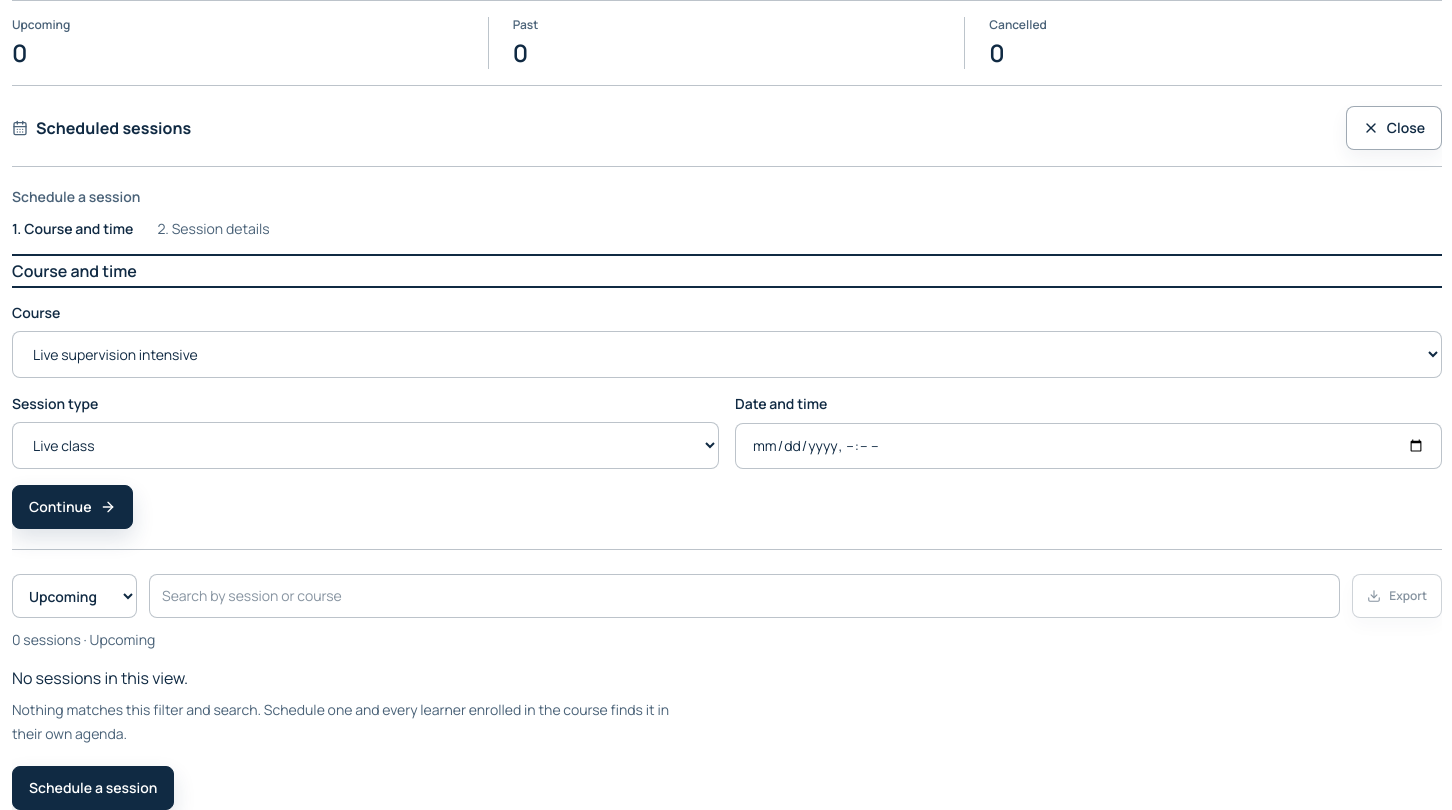
Scenario: TeacherEventStudio › produto gratis: o proximo passo e publicar, sem falar de preco
Type "2027-03-14T15:30" into the field labelled "Date and time" at (1088, 446), box [735,422,1442,469]
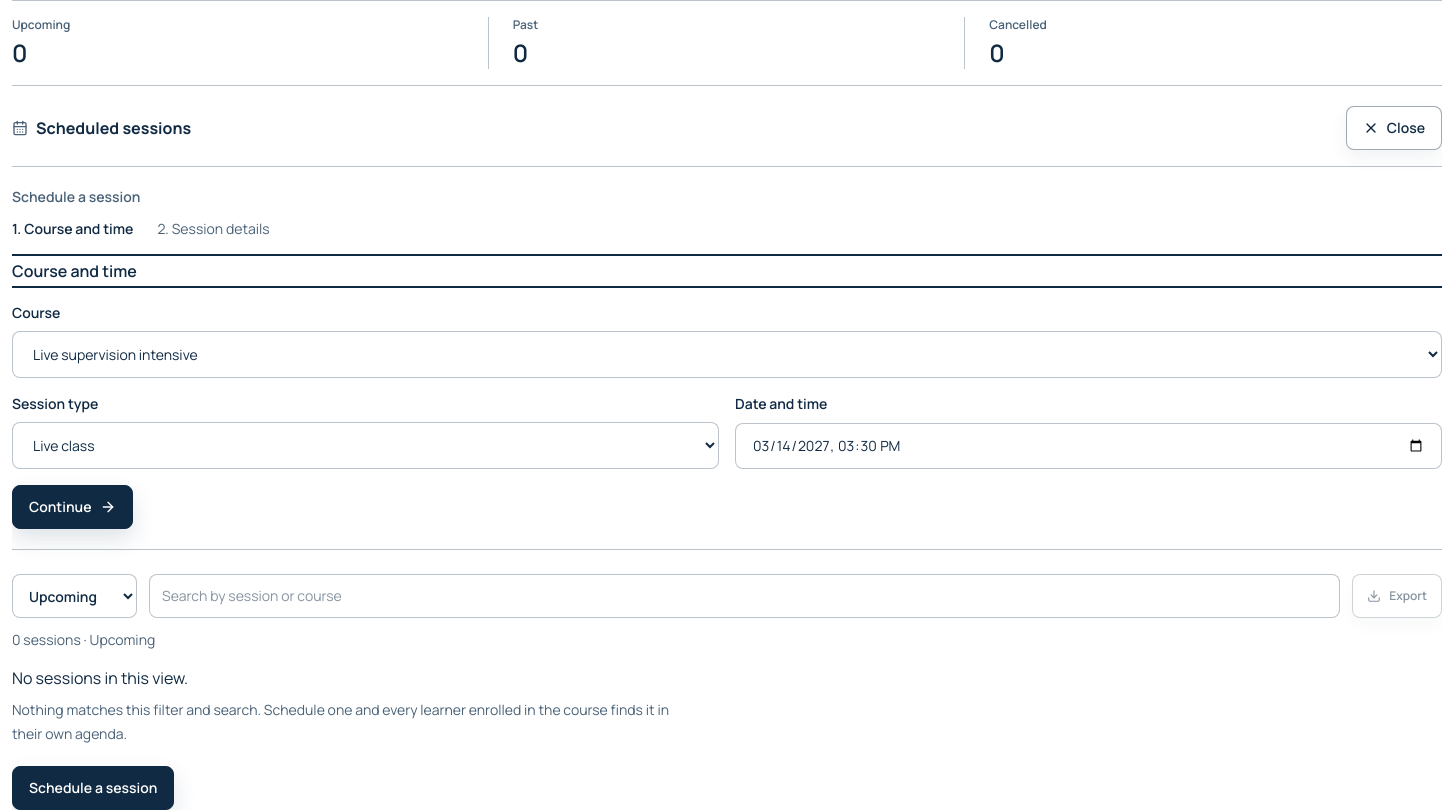
Click the button "Continue" at (72, 507), box [12,485,133,529]
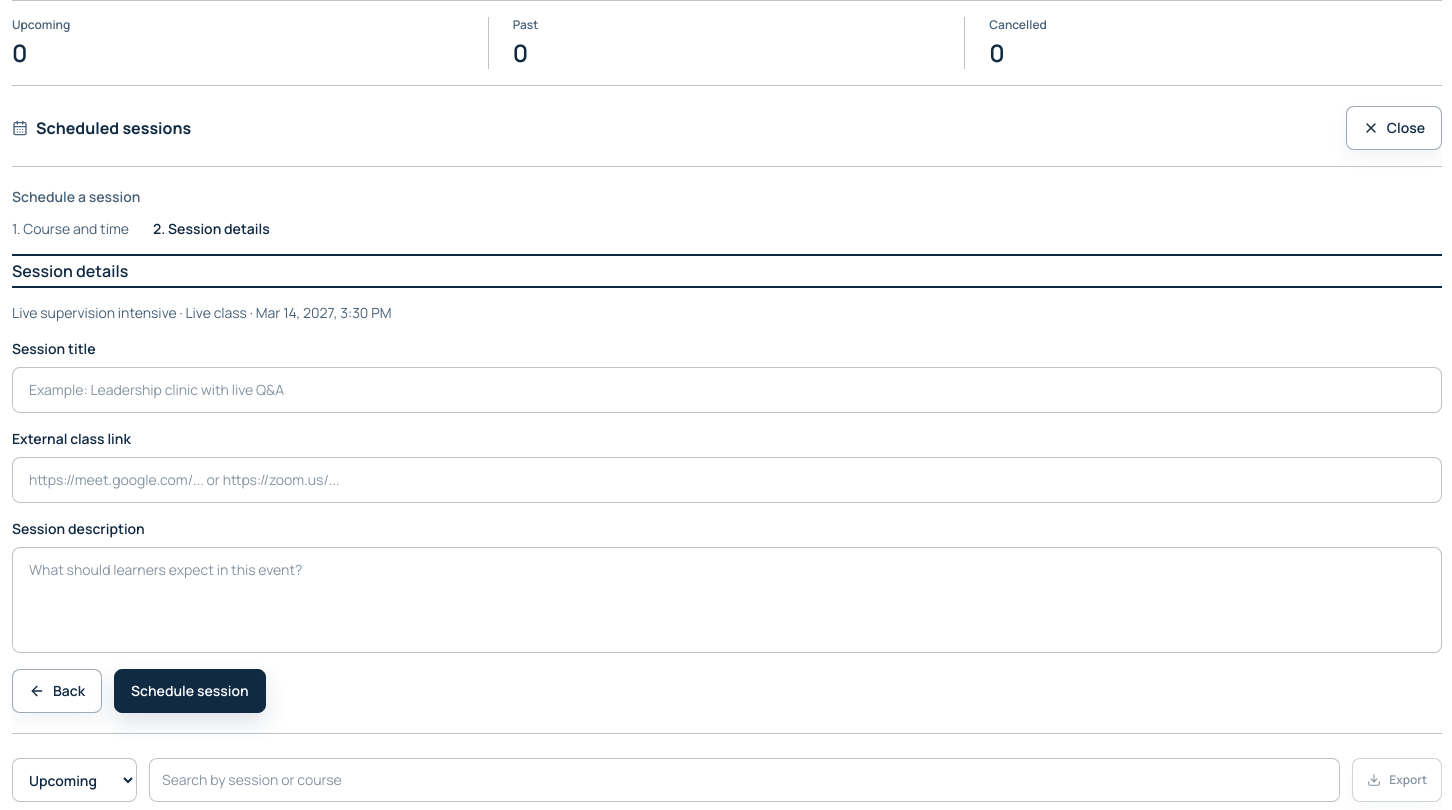
Type "Live workshop" into the field labelled "Session title" at (727, 390), box [12,367,1442,413]
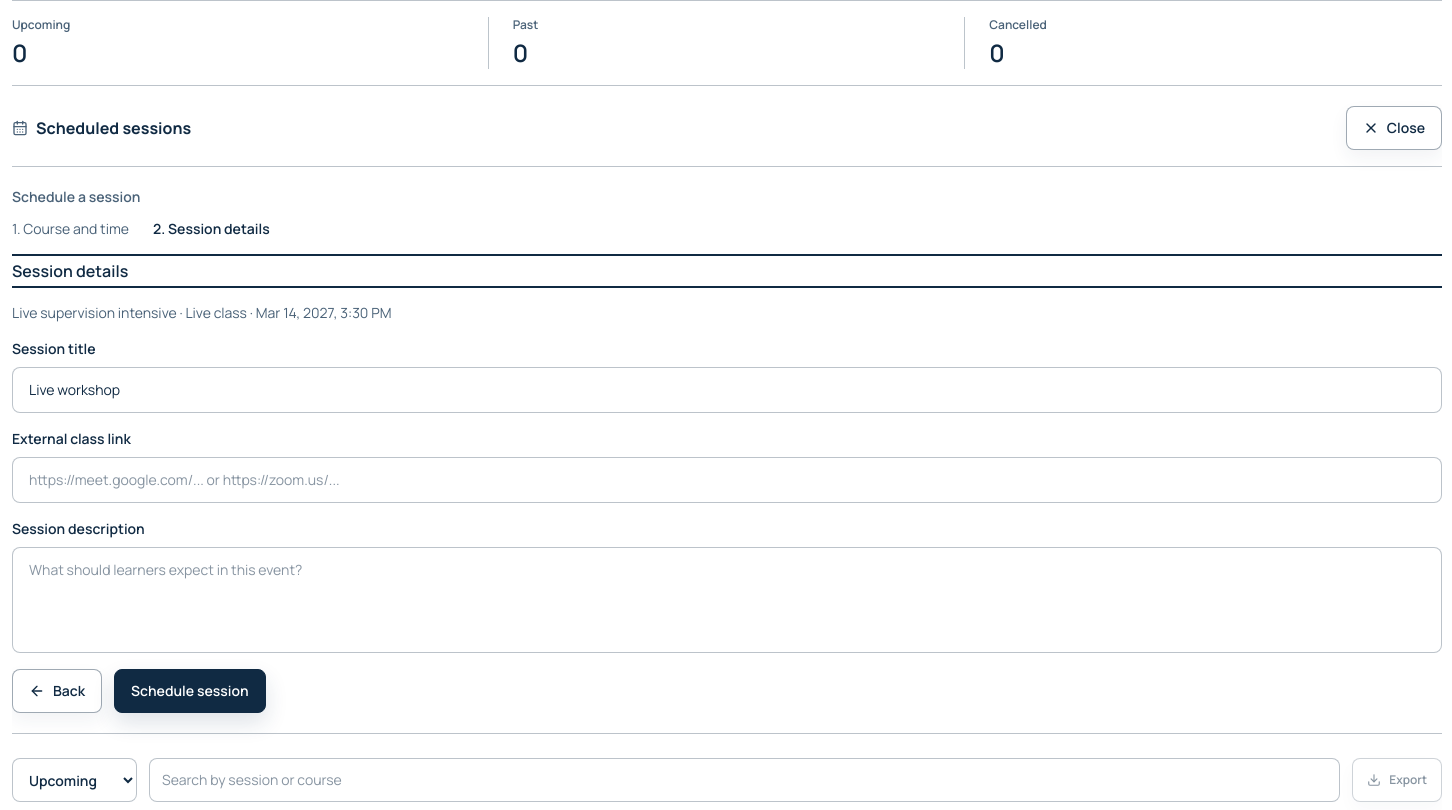
Type "https://meet.example.com/live" into the field labelled "External class link" at (727, 480), box [12,457,1442,503]
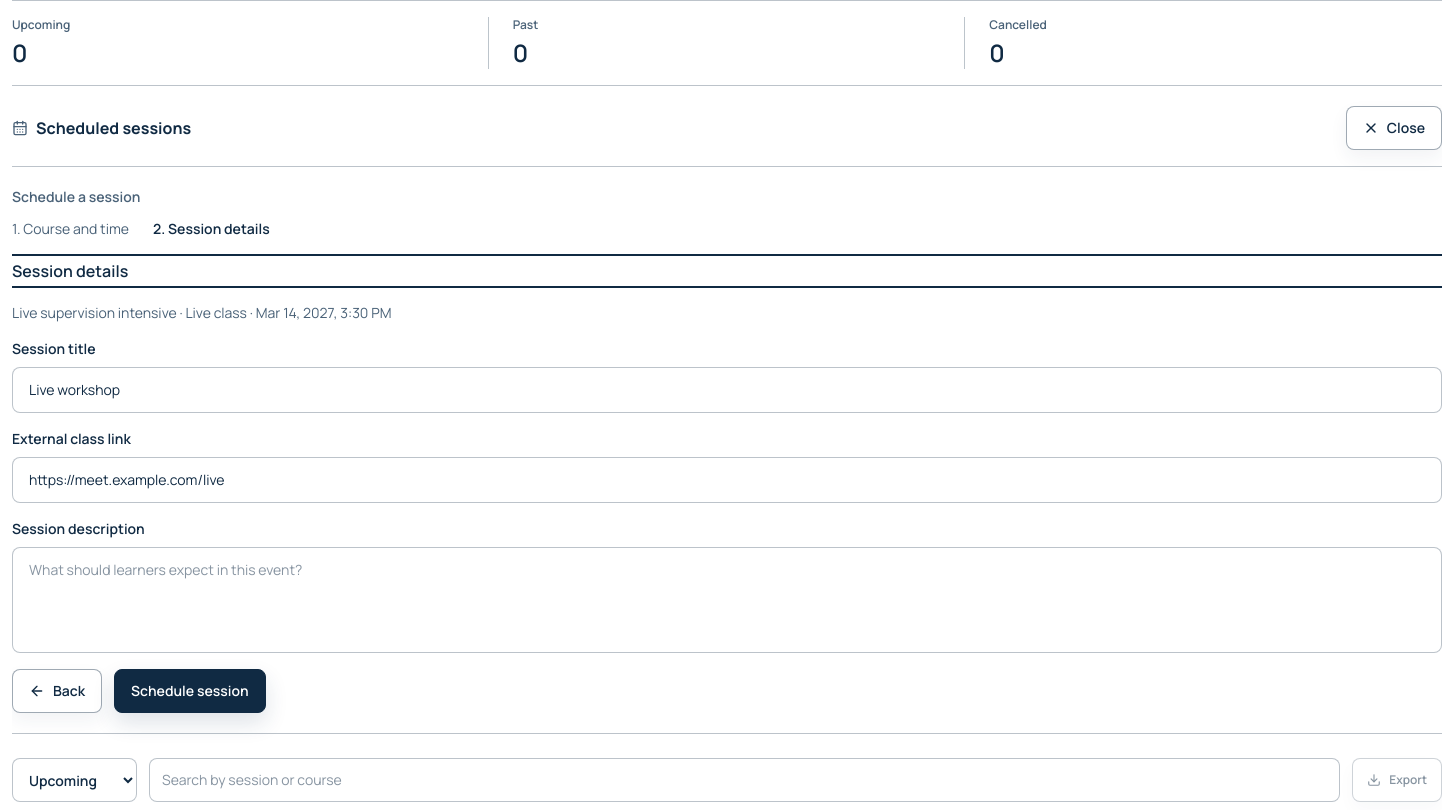
Type "Practical exercises together." into the text box labelled "Session description" at (727, 600), box [12,547,1442,653]
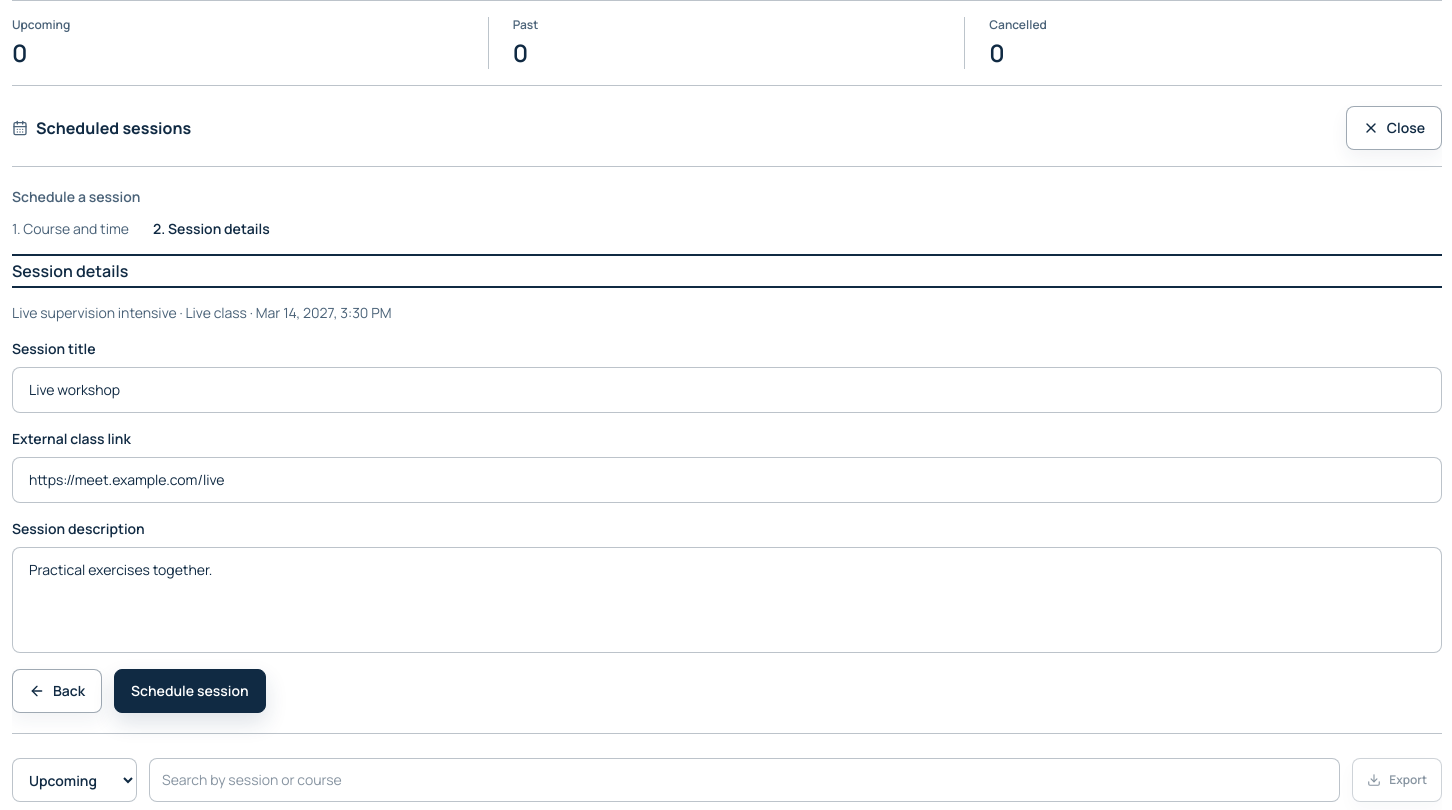
Click the button "Schedule session" at (190, 691), box [114,669,266,713]
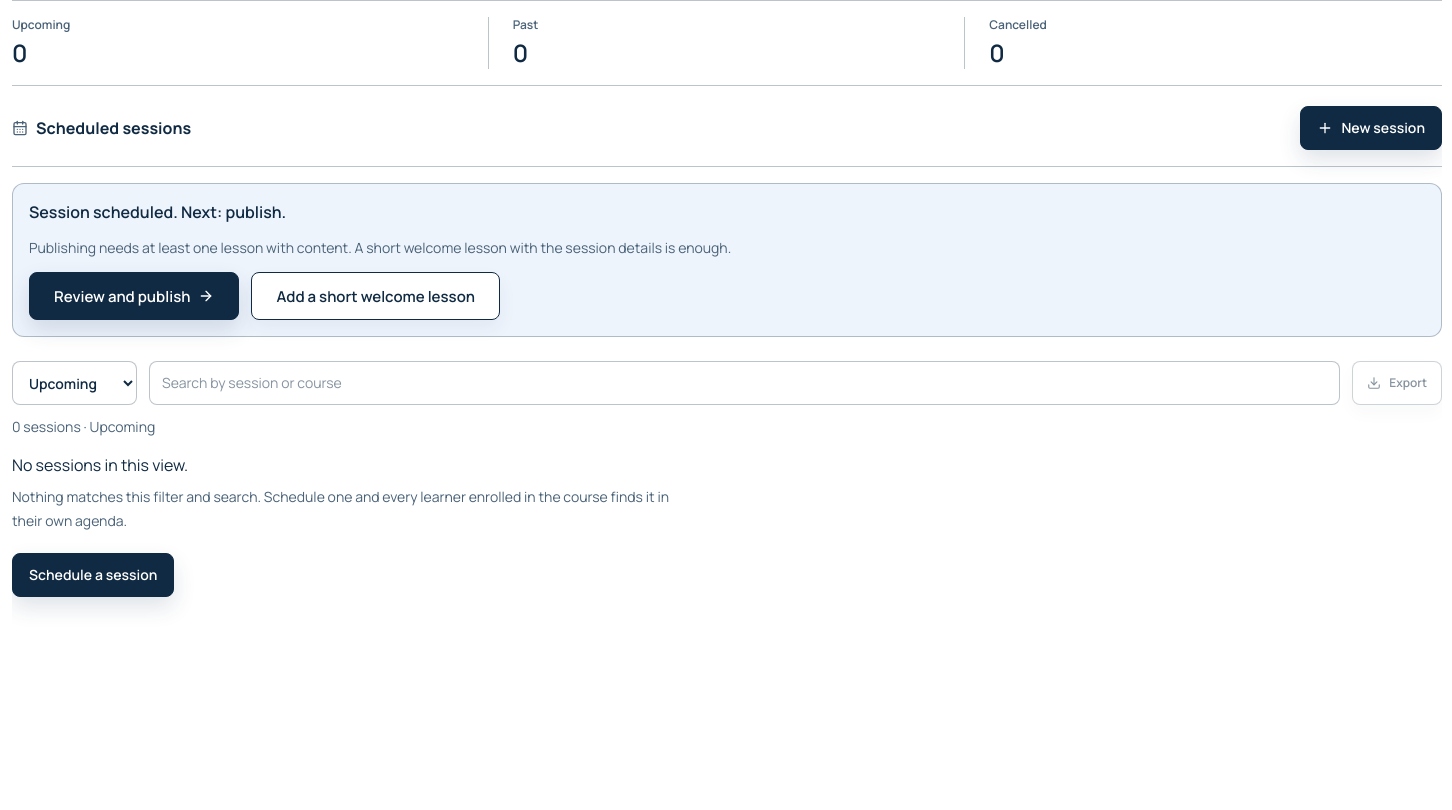
Now the link "Add a short welcome lesson" is shown, box [251,272,500,320]
